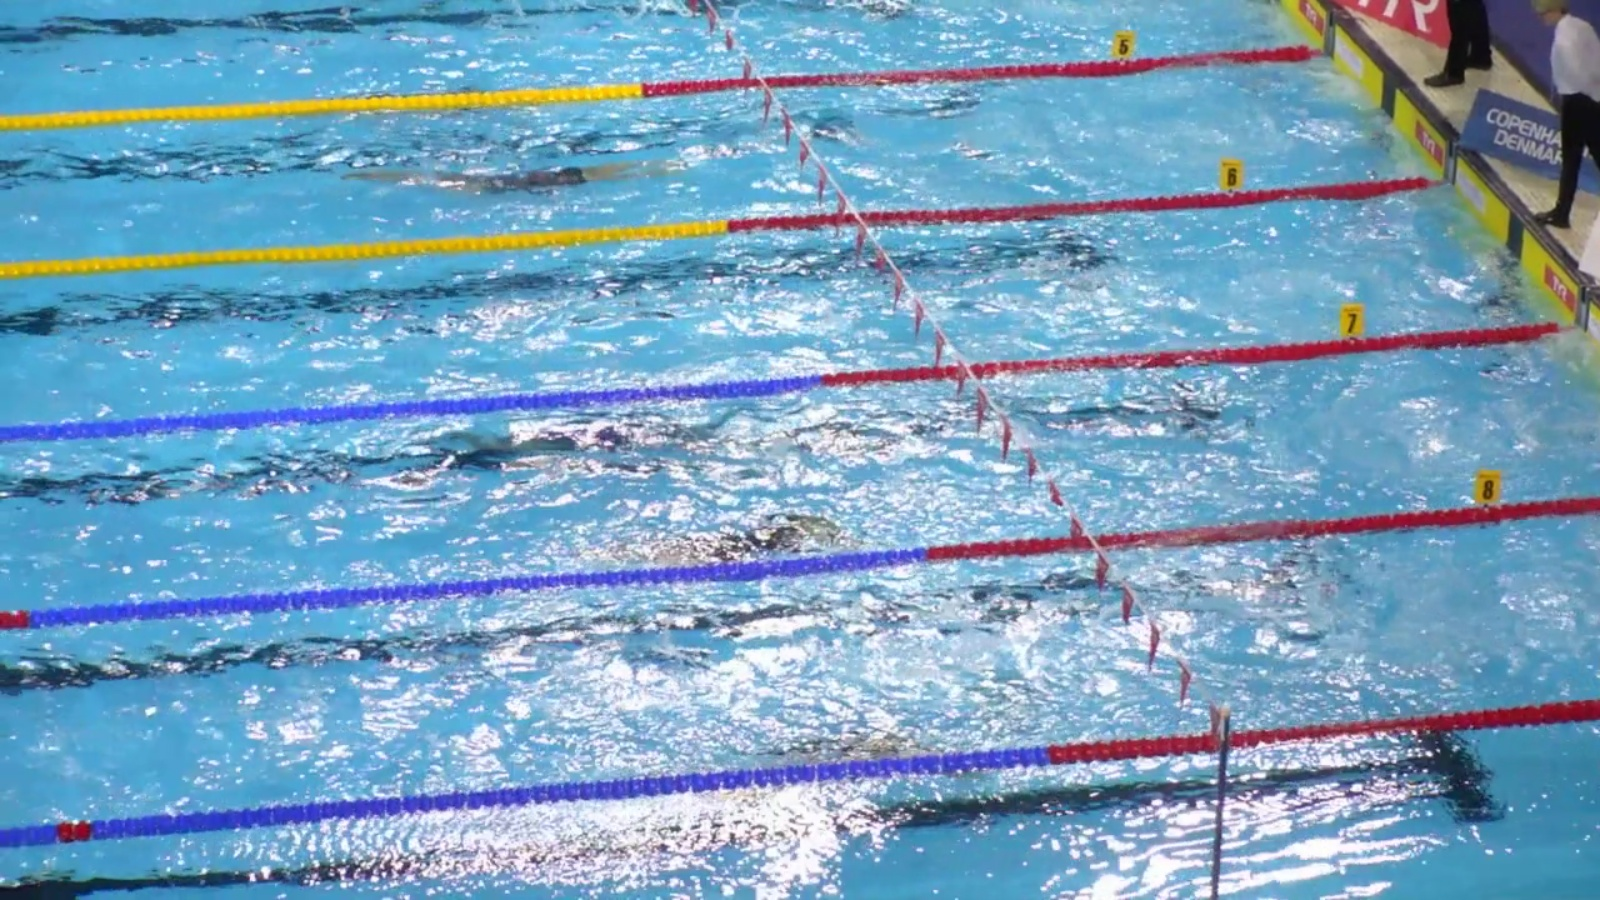swimmerw: (338, 153, 673, 204), (438, 407, 713, 463), (638, 509, 865, 573), (730, 733, 922, 778)
